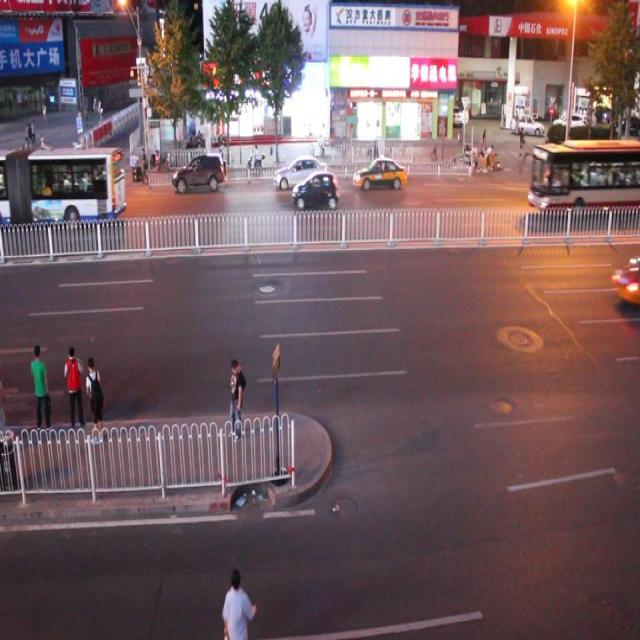car: (0, 145, 126, 228), (527, 137, 640, 215), (172, 149, 225, 192), (273, 155, 326, 191), (353, 156, 406, 191), (610, 248, 640, 309), (10, 177, 63, 210), (292, 172, 339, 208), (1, 166, 14, 201)
